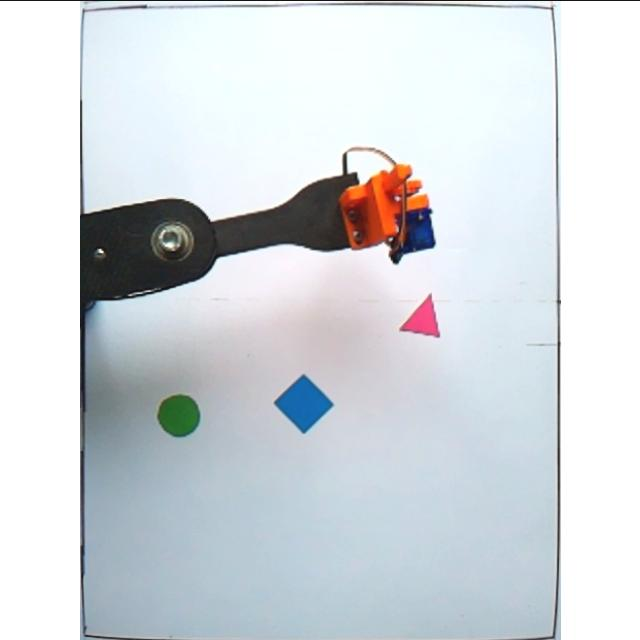blueSquare: (270, 372, 336, 433)
greenCircle: (154, 392, 200, 438)
pinkTriangle: (397, 290, 441, 338)
